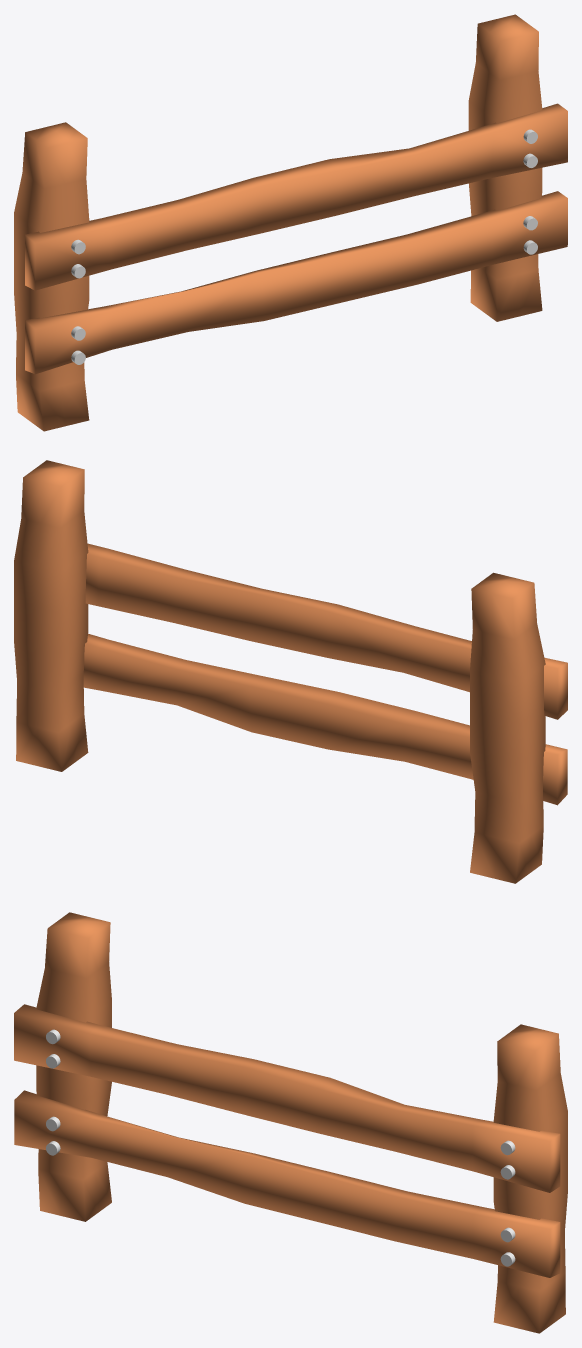
File: fence.fbx
3 views of the same model, one above another, from view 1: azimuth 30°, elevation 25°; view 2: azimuth 150°, elevation 25°; view 3: azimuth 330°, elevation 25° (orthographic).
Visible parts, largest first — view 1: fence; view 2: fence; view 3: fence.
Part boxes in pixels (x1=…): fence: x1=14, y1=14, x2=567, y2=431; fence: x1=14, y1=460, x2=567, y2=883; fence: x1=14, y1=912, x2=567, y2=1333.
Size of the model in its own units: 297 by 151 by 38.29.
